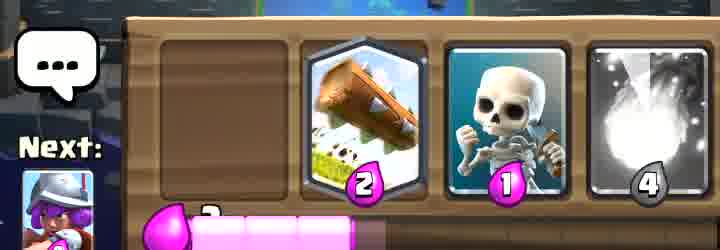fireball: (586, 54, 697, 196)
log: (311, 42, 423, 191)
musketeer: (24, 171, 93, 250)
skeleton: (449, 58, 558, 202)
